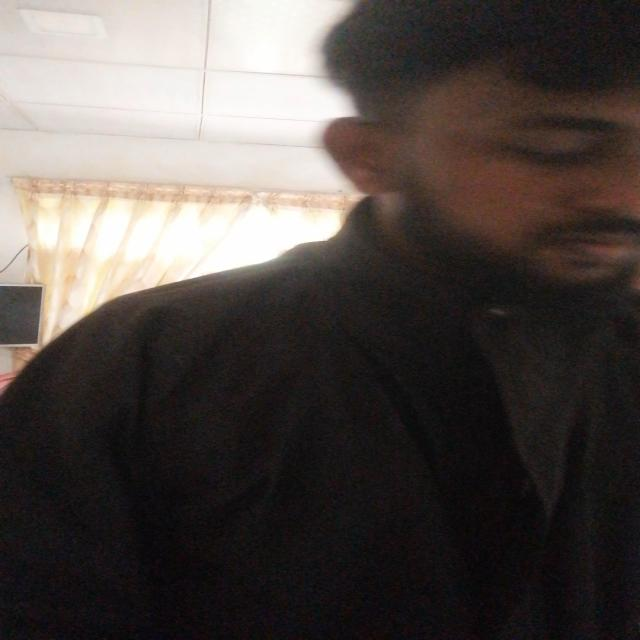Jacket_Wearer: (47, 225, 640, 640)
Person: (9, 2, 640, 640)
